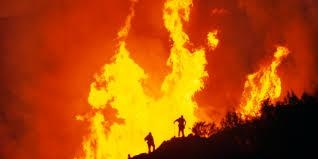fire: (77, 0, 218, 154), (234, 43, 291, 118)
